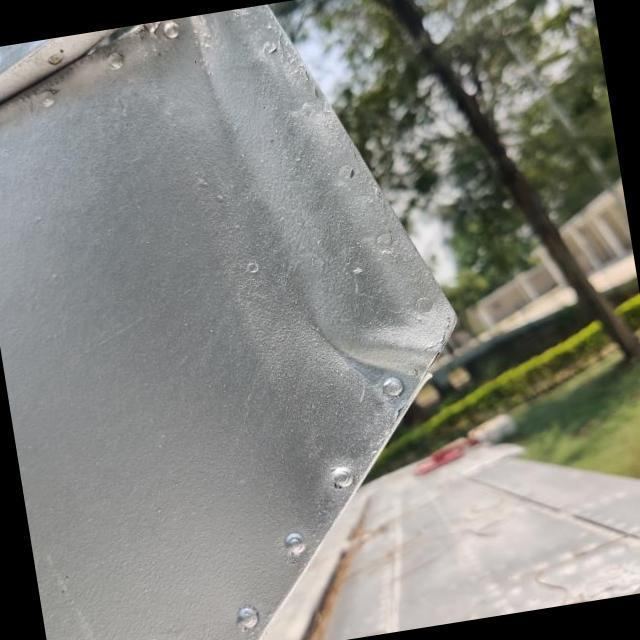Dent: (302, 282, 461, 430)
